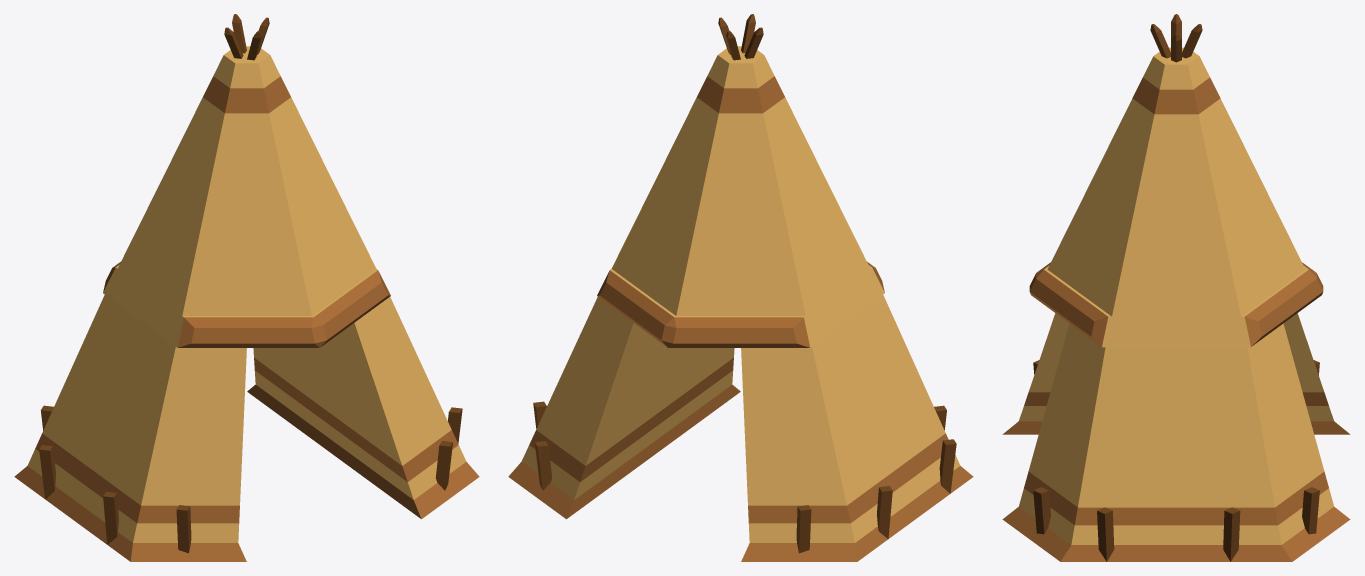
File: Tipi.fbx
3 renders of one model, left to right at view 1: azimuth 30°, elevation 25°; view 2: azimuth 150°, elevation 25°; view 3: azimuth 270°, elevation 25°, orthographic.
Parts seen in each view (by area): view 1: Tipi; view 2: Tipi; view 3: Tipi.
Part boxes in pixels (x1,y1,x2,y2): Tipi: [14, 14, 479, 561]; Tipi: [508, 14, 973, 561]; Tipi: [1002, 14, 1350, 561].
Size of the model in its own units: 53.53 by 64.52 by 45.
